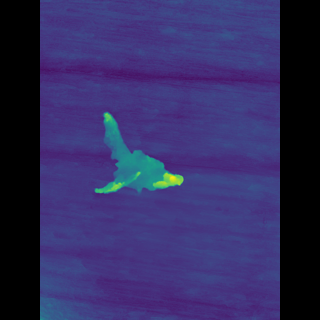Loch: (109, 109, 179, 198)
